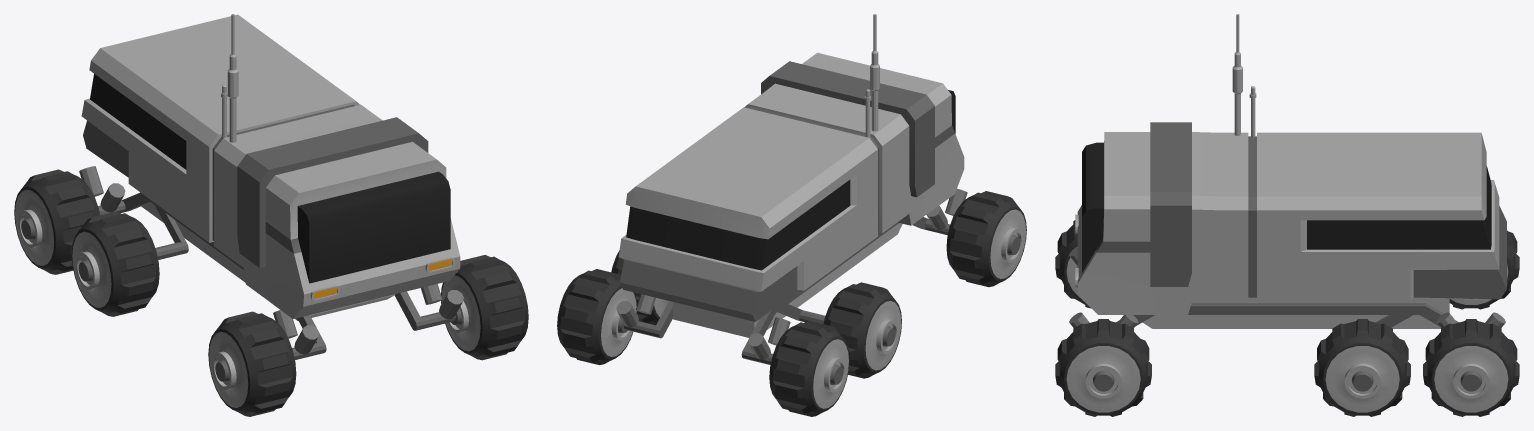
File: Rover-WRd1piJOfh.glb
3 renders of one model, left to right at view 1: azimuth 30°, elevation 25°; view 2: azimuth 150°, elevation 25°; view 3: azimuth 270°, elevation 25°, orthographic. The views are drawn at different scales.
Parts seen in each view (by area): view 1: Rover_2, Wheel_2.002, Wheel_6, Wheel_3.002, Wheel_2.001; view 2: Rover_2, Wheel_2.001, Wheel_2.002, Wheel_3.001, Wheel_6, Wheel_1.001; view 3: Rover_2, Wheel_3.001, Wheel_3.002, Wheel_1.001, Wheel_2.002, Wheel_2.001.
Boxes of the visible parts, bbox=[...] form: Rover_2: bbox=[79, 14, 463, 359]; Wheel_2.002: bbox=[208, 311, 296, 416]; Wheel_6: bbox=[71, 211, 159, 316]; Wheel_3.002: bbox=[441, 255, 528, 360]; Wheel_2.001: bbox=[14, 169, 99, 274]; Rover_2: bbox=[616, 14, 967, 364]; Wheel_2.001: bbox=[769, 320, 849, 416]; Wheel_2.002: bbox=[946, 191, 1026, 287]; Wheel_3.001: bbox=[557, 269, 637, 364]; Wheel_6: bbox=[823, 282, 901, 378]; Wheel_1.001: bbox=[611, 250, 668, 325]; Rover_2: bbox=[1069, 14, 1506, 328]; Wheel_3.001: bbox=[1423, 319, 1519, 416]; Wheel_3.002: bbox=[1055, 319, 1151, 416]; Wheel_1.001: bbox=[1314, 319, 1410, 416]; Wheel_2.002: bbox=[1055, 220, 1090, 308]; Wheel_2.001: bbox=[1449, 230, 1519, 309].
Bounding box in the file's own units: 4.58 × 4.88 × 6.56.
1 material, 1 textured.
